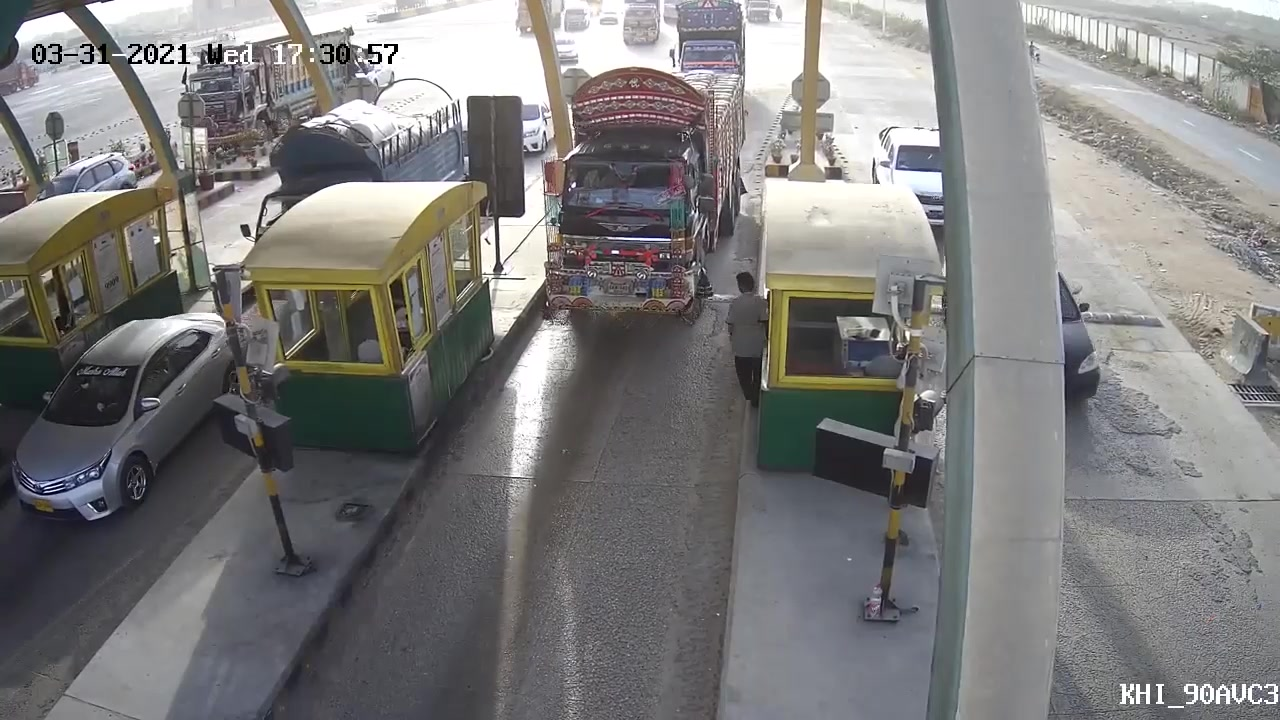F5: (536, 57, 752, 335)
